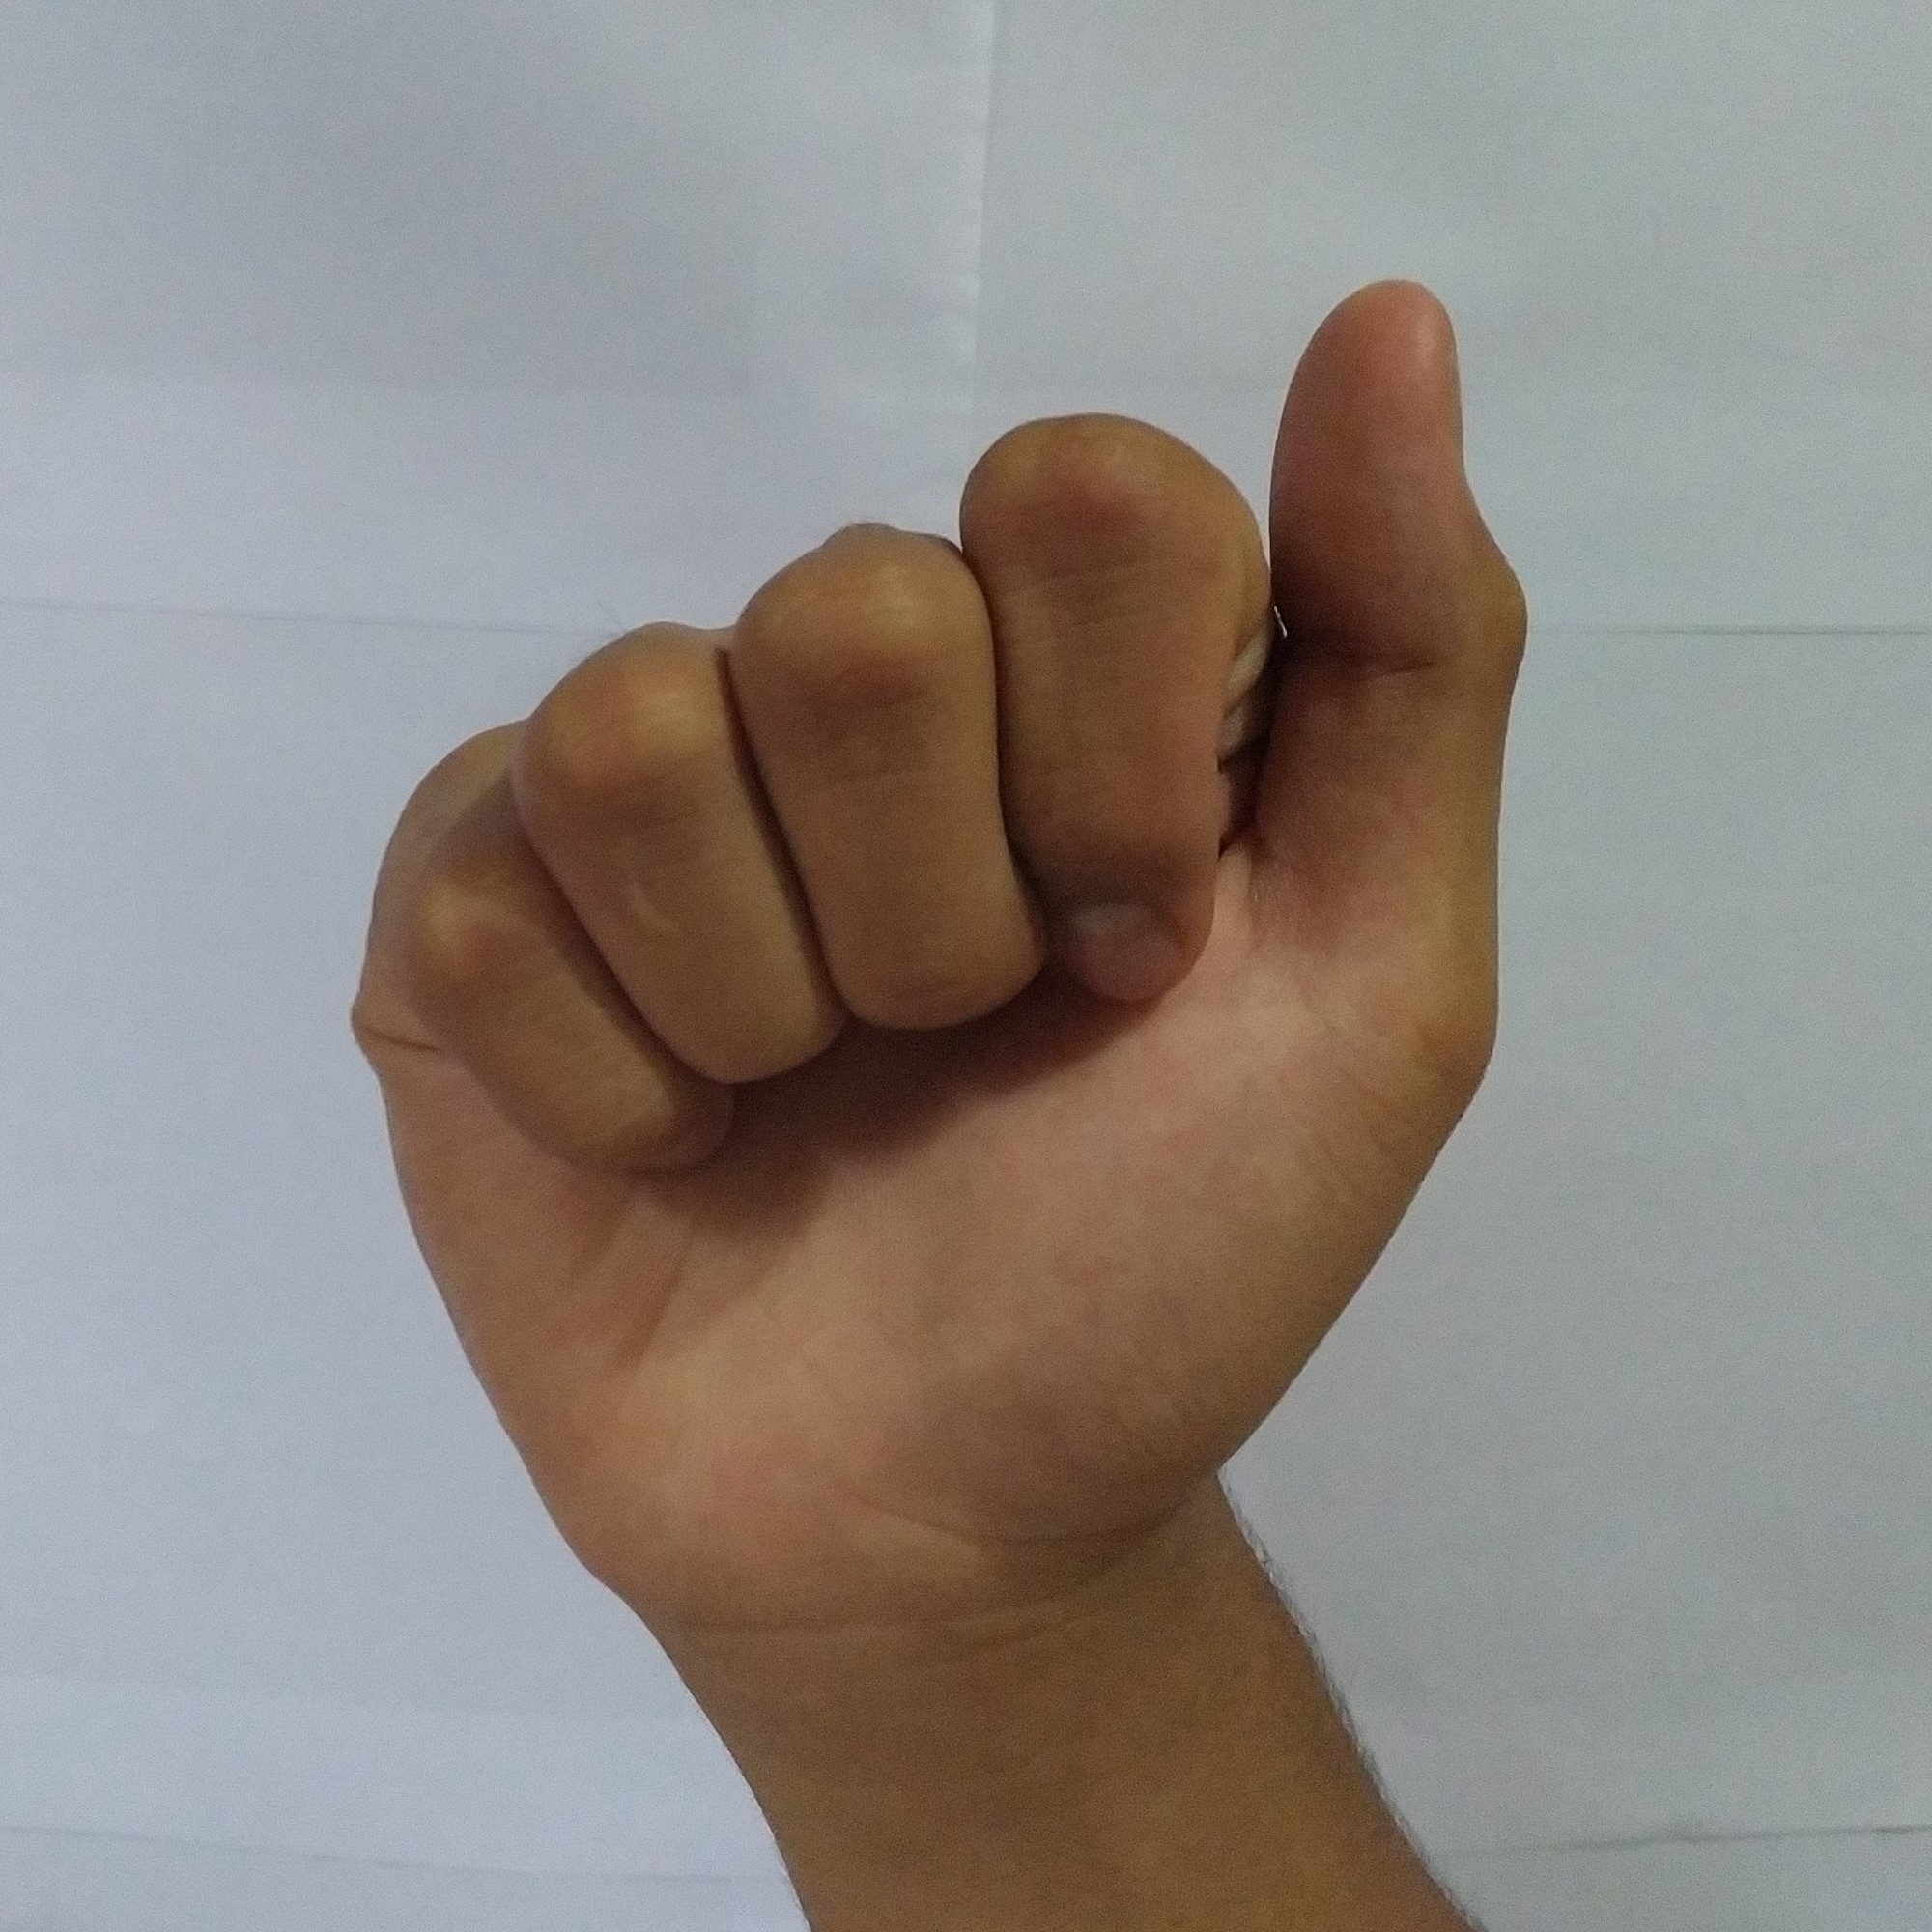A: (329, 264, 1550, 1585)
